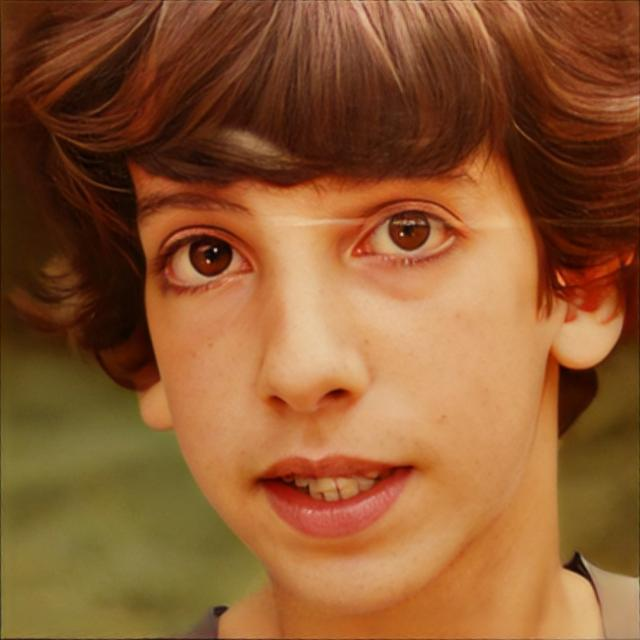surprise: (151, 81, 545, 610)
